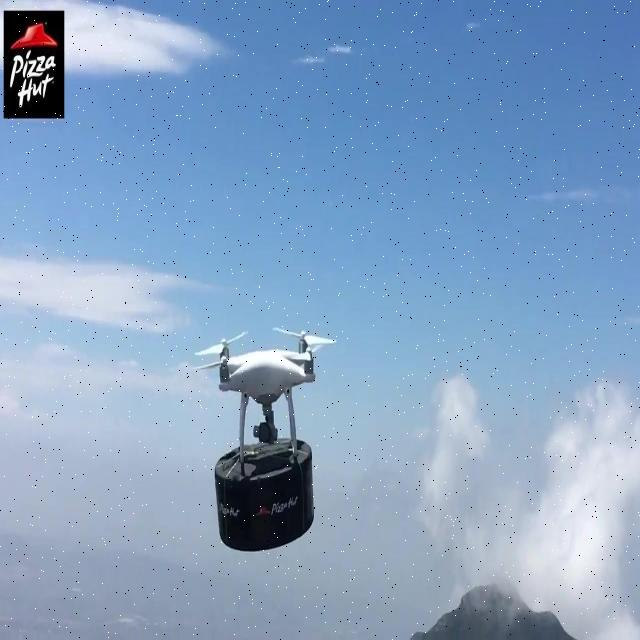UAV: (195, 327, 337, 463)
